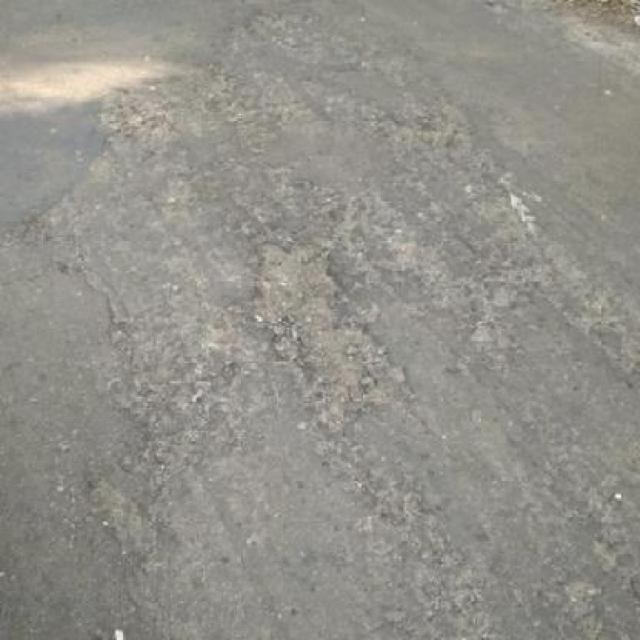Pothole: (247, 235, 416, 422)
